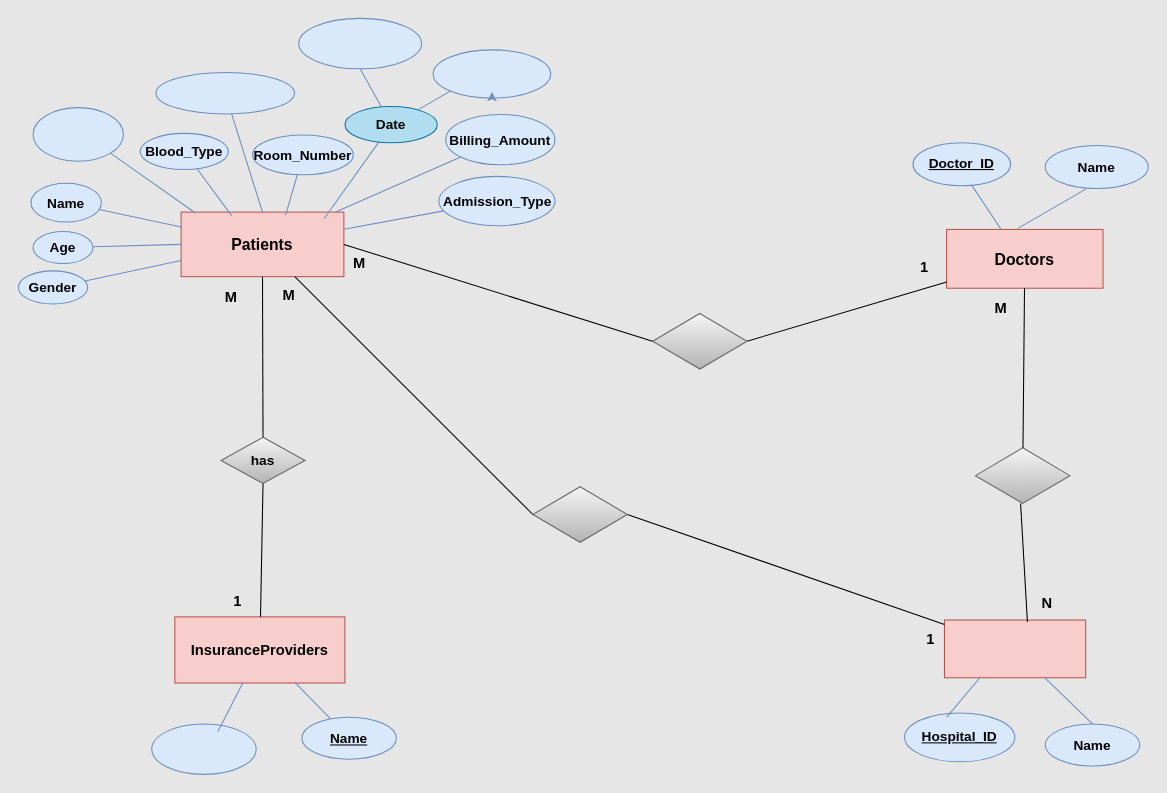
Some shapes in this 1167 by 793 pixel diagram are drawn without their labels. The shapes that lost their labels are listed below. From the top down, each one's box as (x1, y1, x2, y2) in pixels, then its label:
(298, 17, 422, 69): Admission_Date
(155, 71, 295, 114): Medical_Condition
(432, 49, 551, 98): Discharge_Date
(32, 107, 123, 161): Patient_ID
(652, 312, 747, 369): Treat
(974, 447, 1070, 503): Work
(532, 486, 627, 542): Admit
(943, 619, 1086, 678): Hospitals
(151, 723, 256, 774): Insurance_ID
